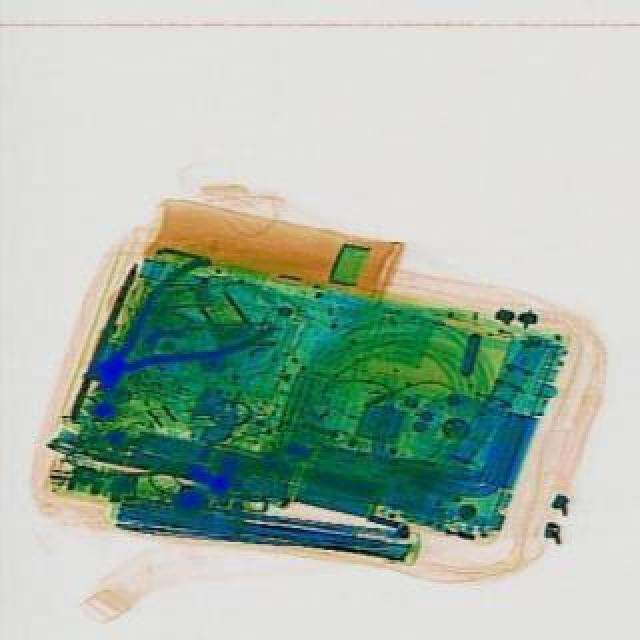wrench: (56, 246, 274, 426)
